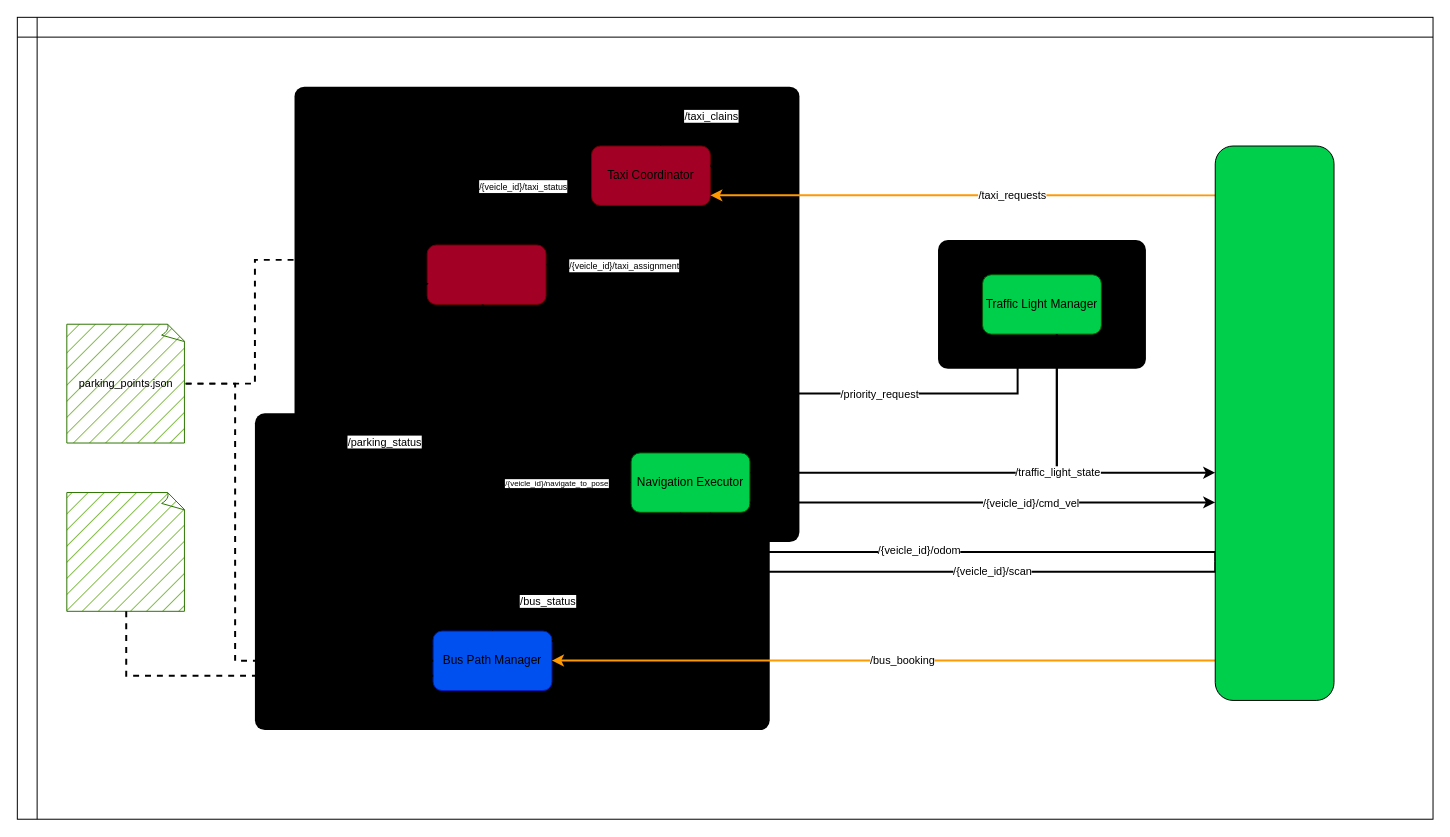
Image size: 1450x837. Some labels were removed from this diagram. Each missing label, with the centre of its shape:
bus_path_points.json: the point at 126,551
Gazebo Simulation: the point at 1274,422
Taxi Request Manager: the point at 486,274
